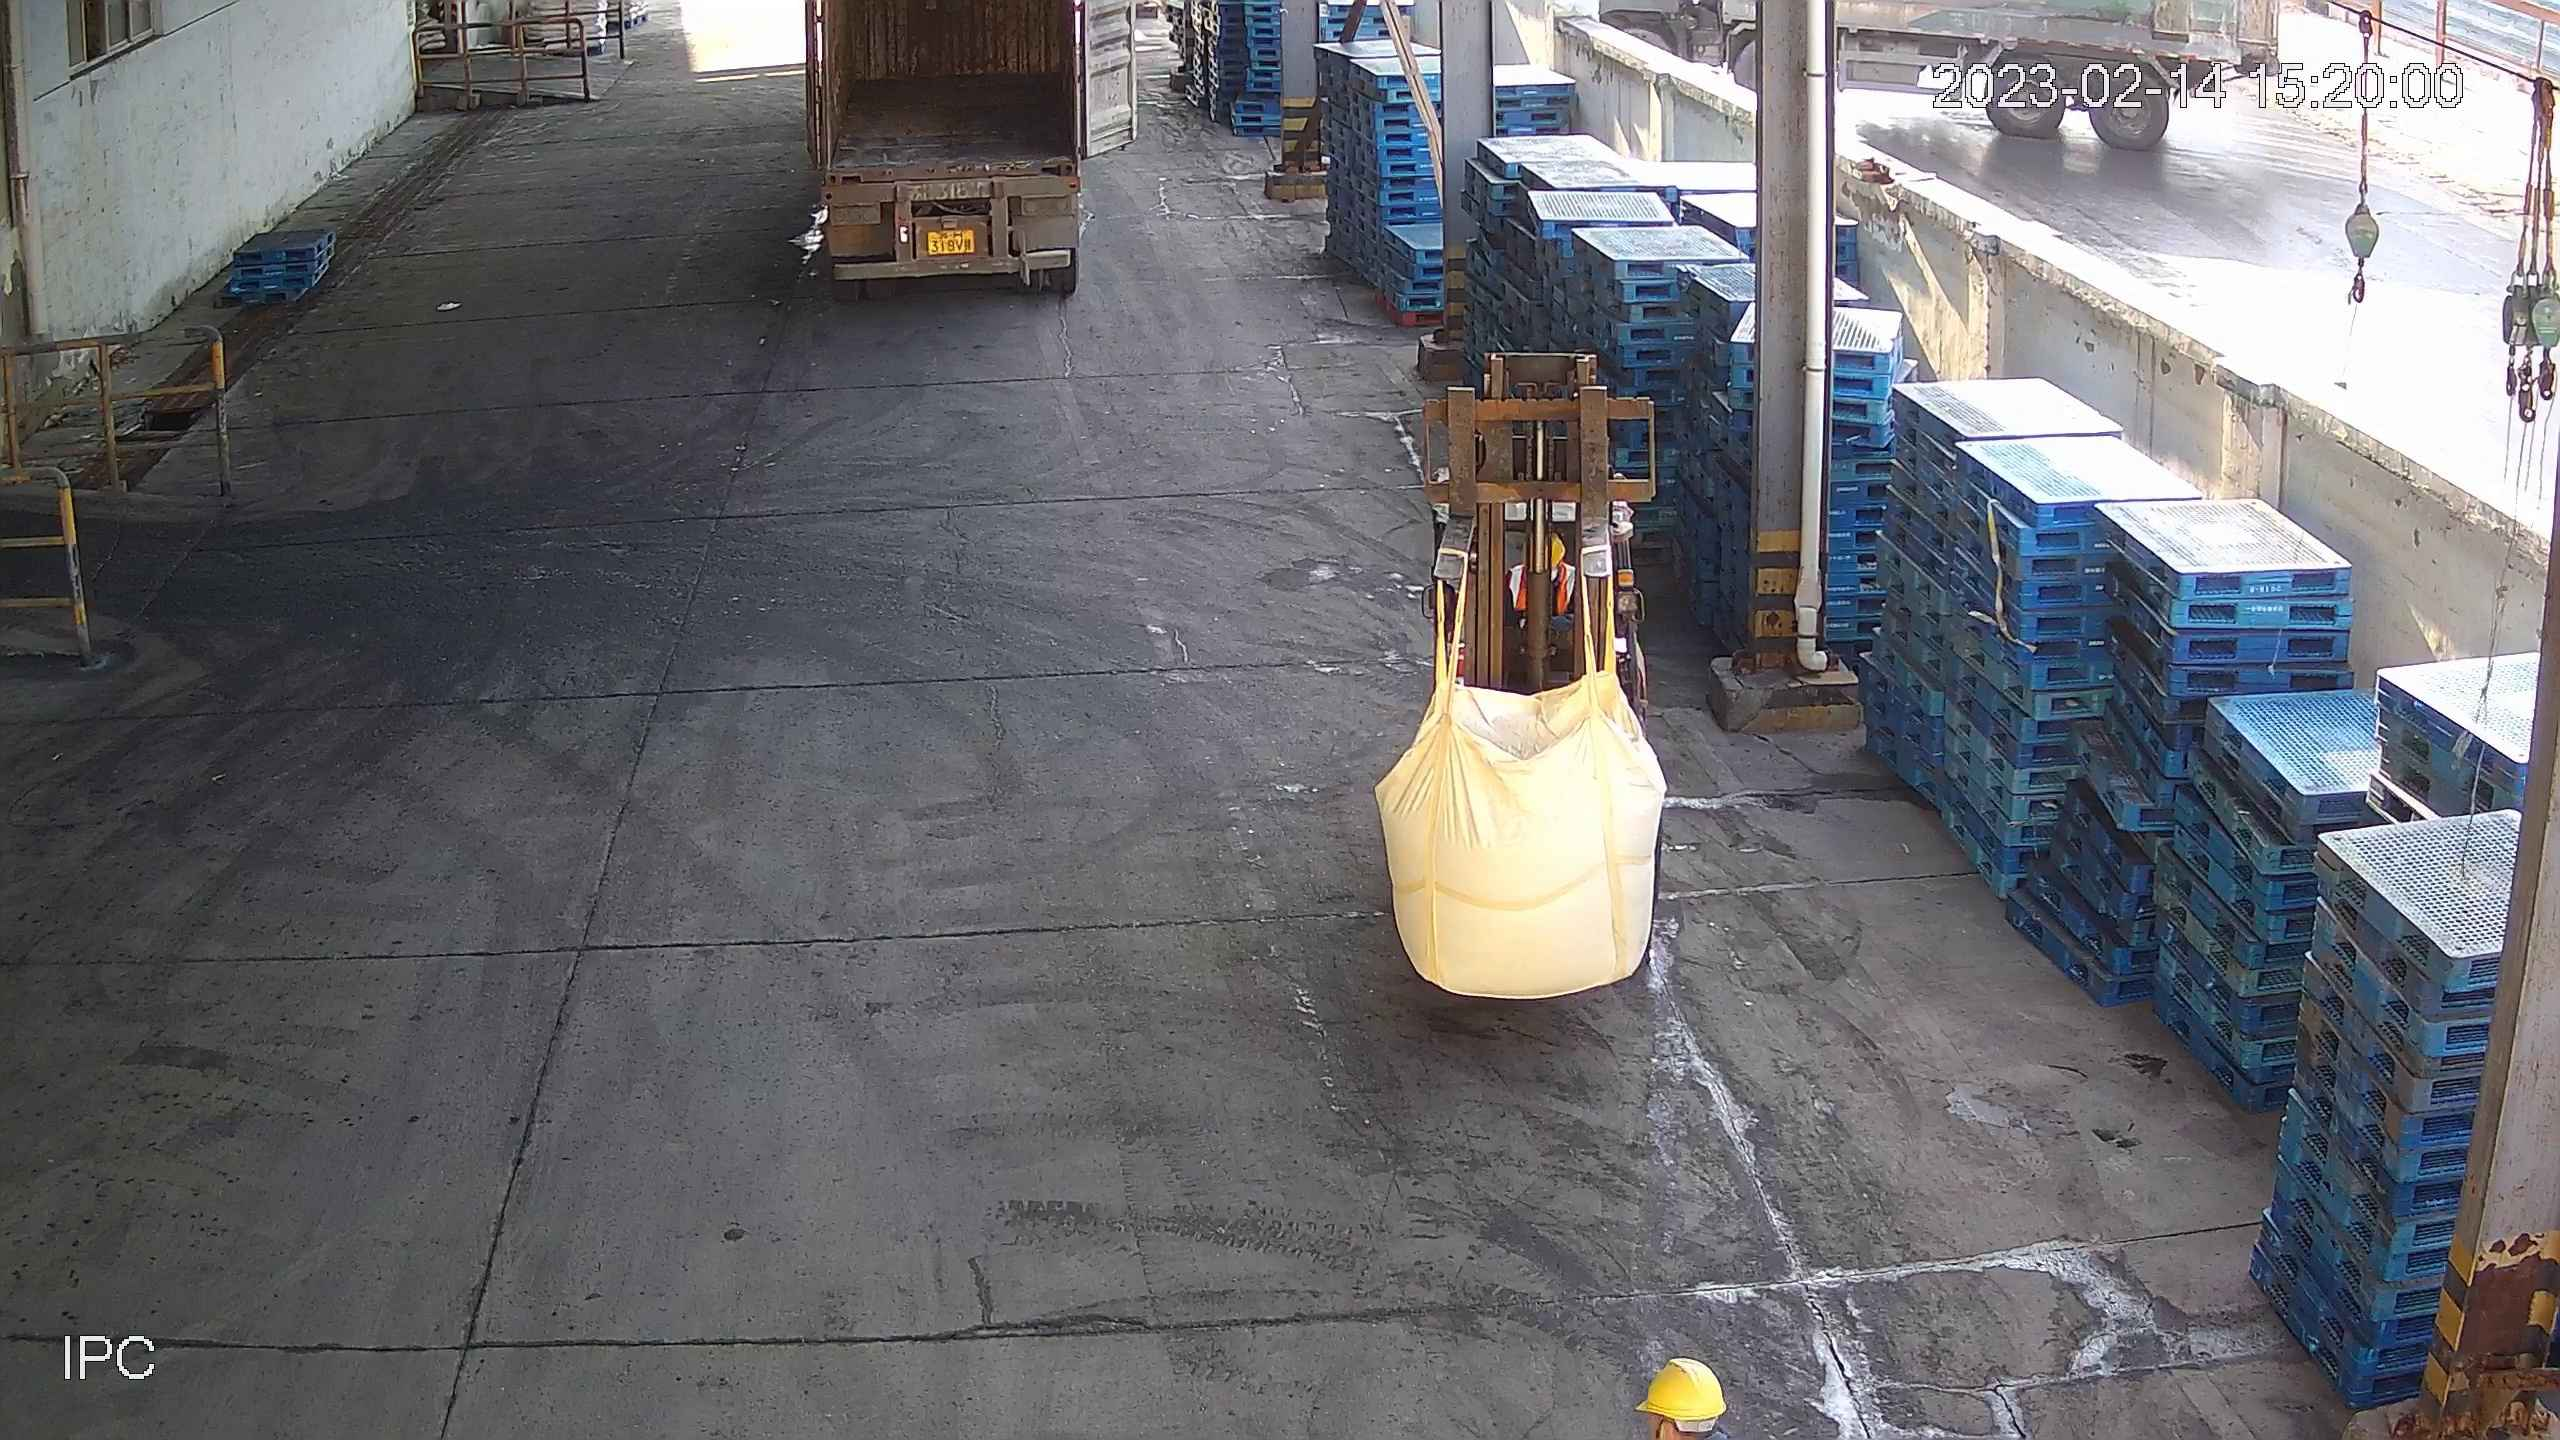truck: (786, 2, 1148, 316)
